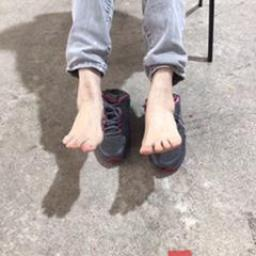Front View -Both Feet-: (58, 56, 186, 163)
